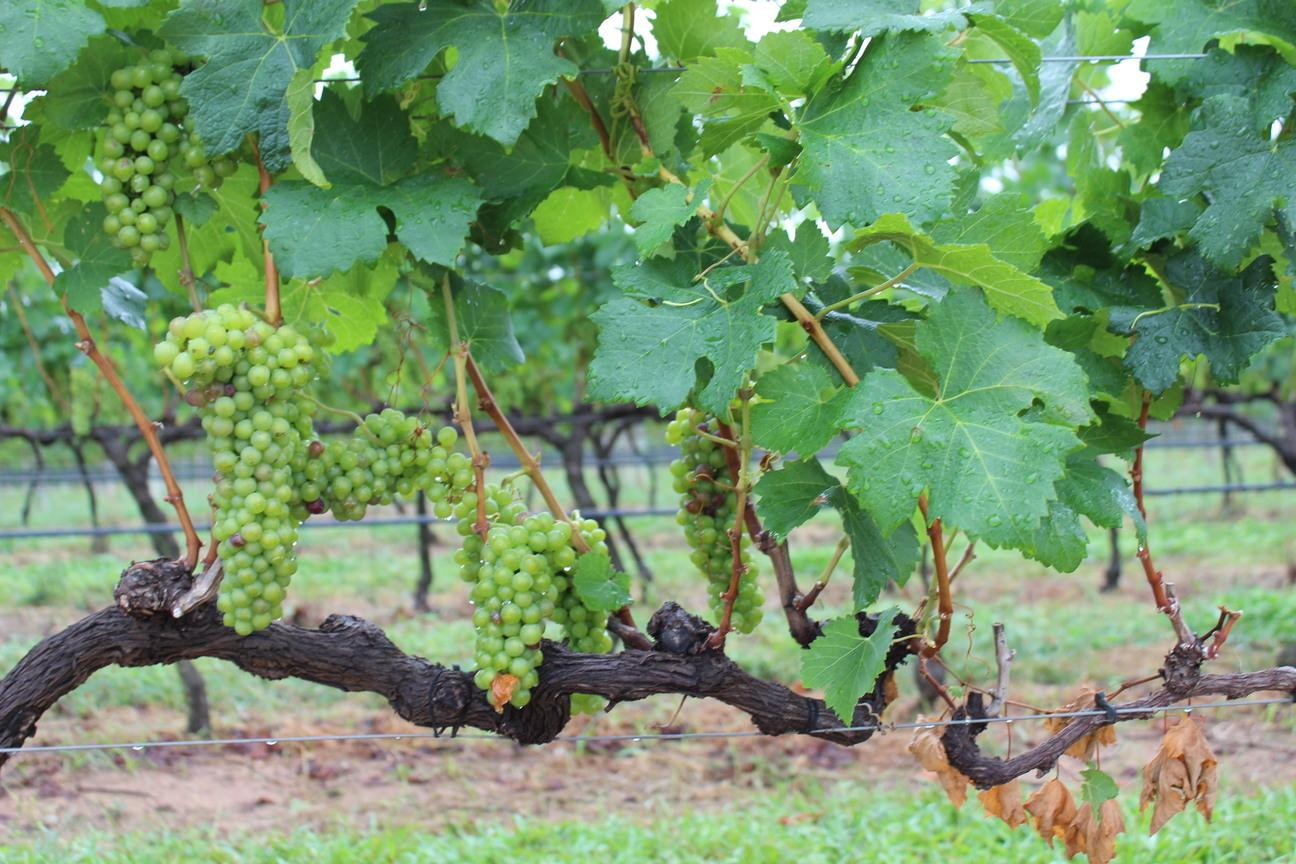leaf: (837, 290, 1091, 544), (356, 0, 604, 144), (163, 0, 356, 171), (589, 252, 791, 413), (796, 32, 957, 228), (1110, 249, 1283, 392), (1158, 94, 1295, 265), (849, 214, 1059, 325), (803, 606, 897, 723), (0, 0, 104, 86), (751, 363, 841, 452), (630, 179, 709, 256), (652, 0, 748, 63), (571, 554, 629, 610)
